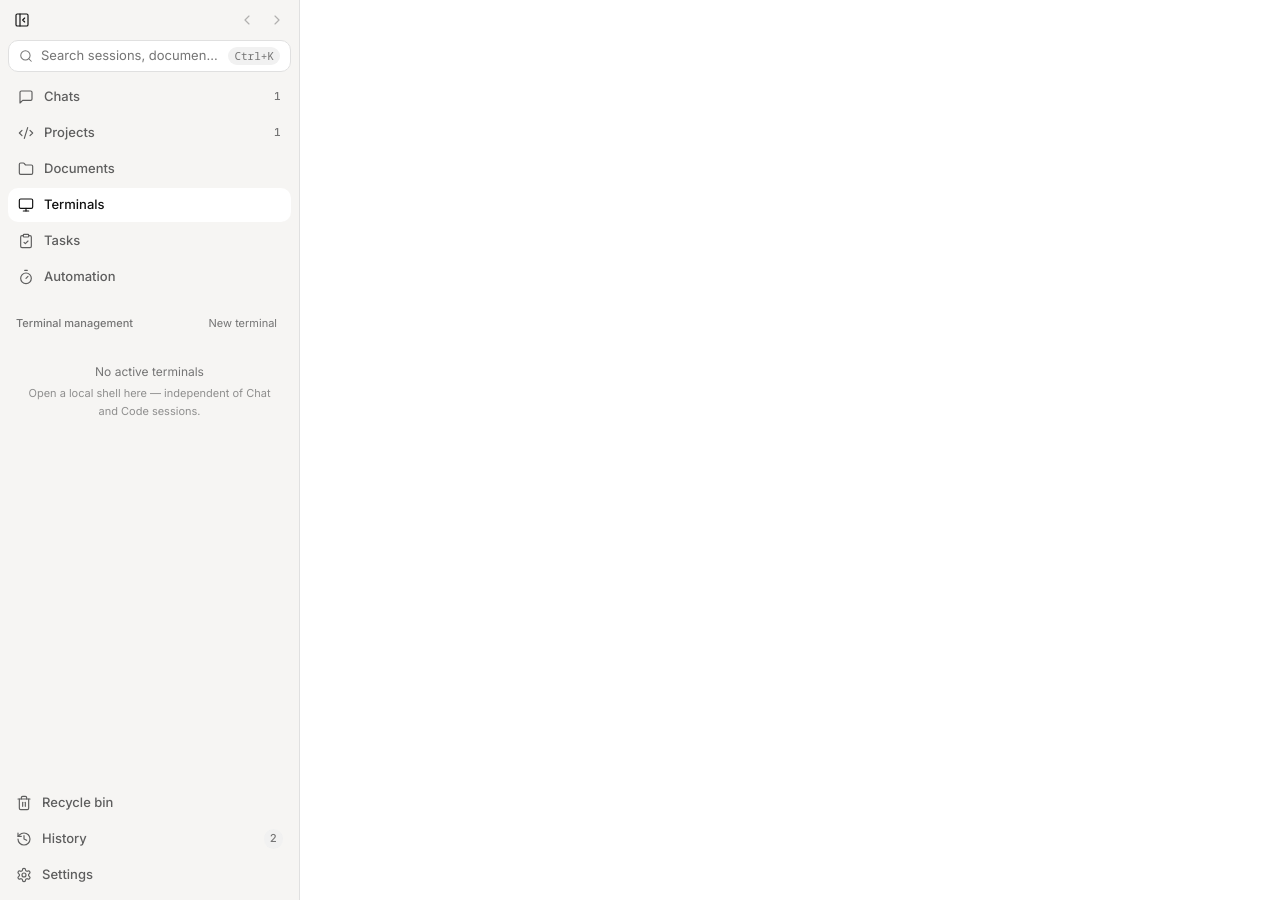
AppSidebar › terminals section shows a single new button that opens a popover
The width and height of the screenshot is (1280, 900).
Click the button with test id "sidebar-new-terminal" at point(243, 324), box [202,314,283,333]
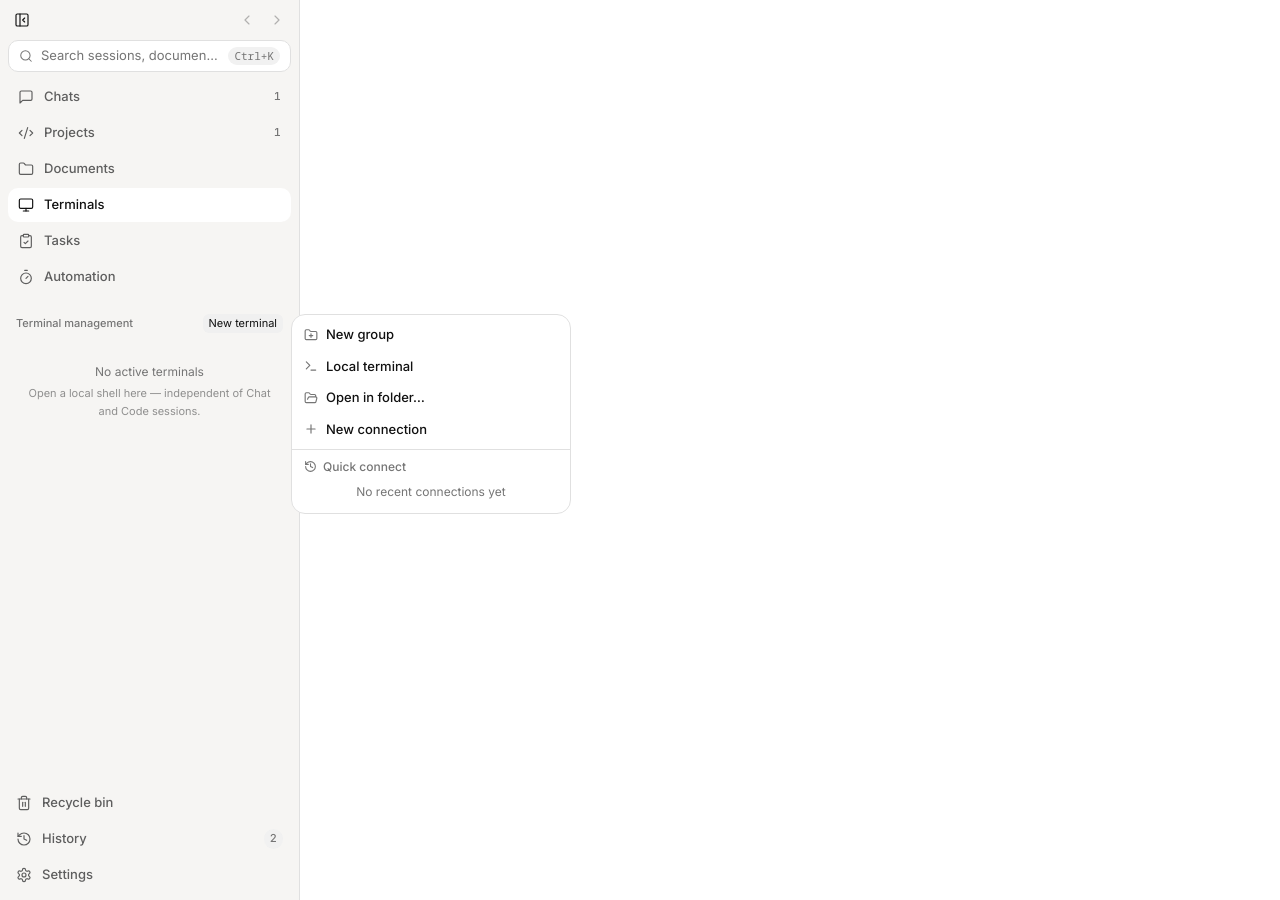
Check: the dialog with test id "terminals-new-popover" is shown, box [291,314,571,514]
Check: the button with test id "sidebar-new-group" is shown, box [296,319,566,350]
Check: the button with test id "sidebar-new-local-terminal" is shown, box [296,350,566,382]
